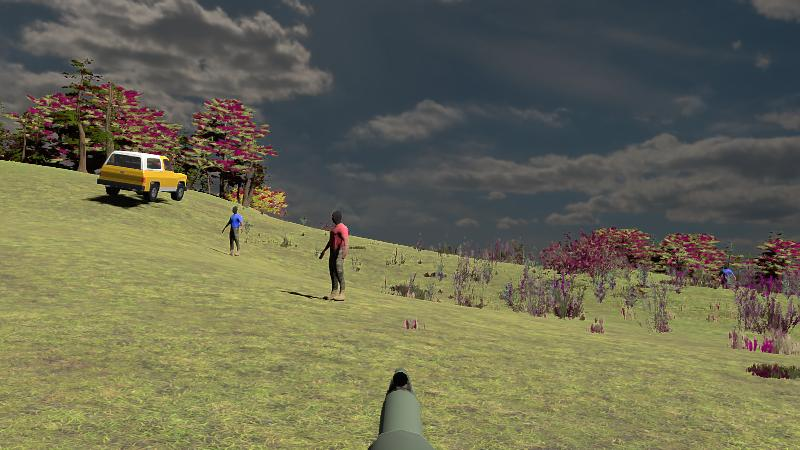Human: (320, 209, 347, 302), (222, 205, 243, 257)
car: (97, 151, 188, 203)
